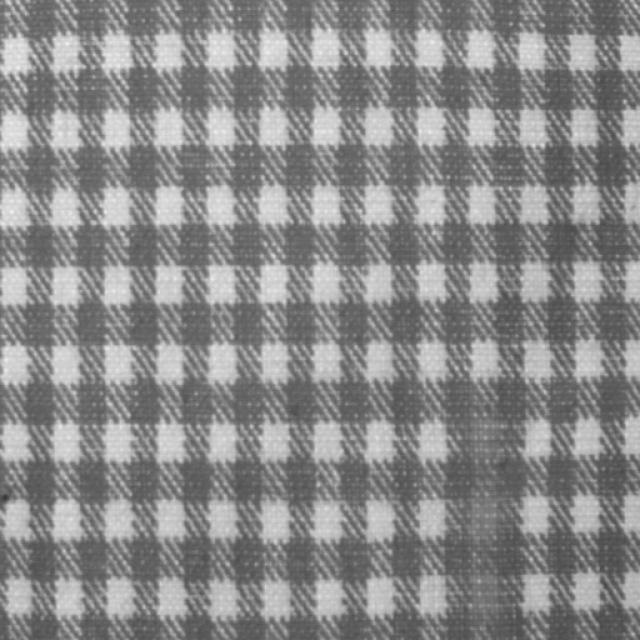Stain-Defect: (471, 420, 501, 639)
